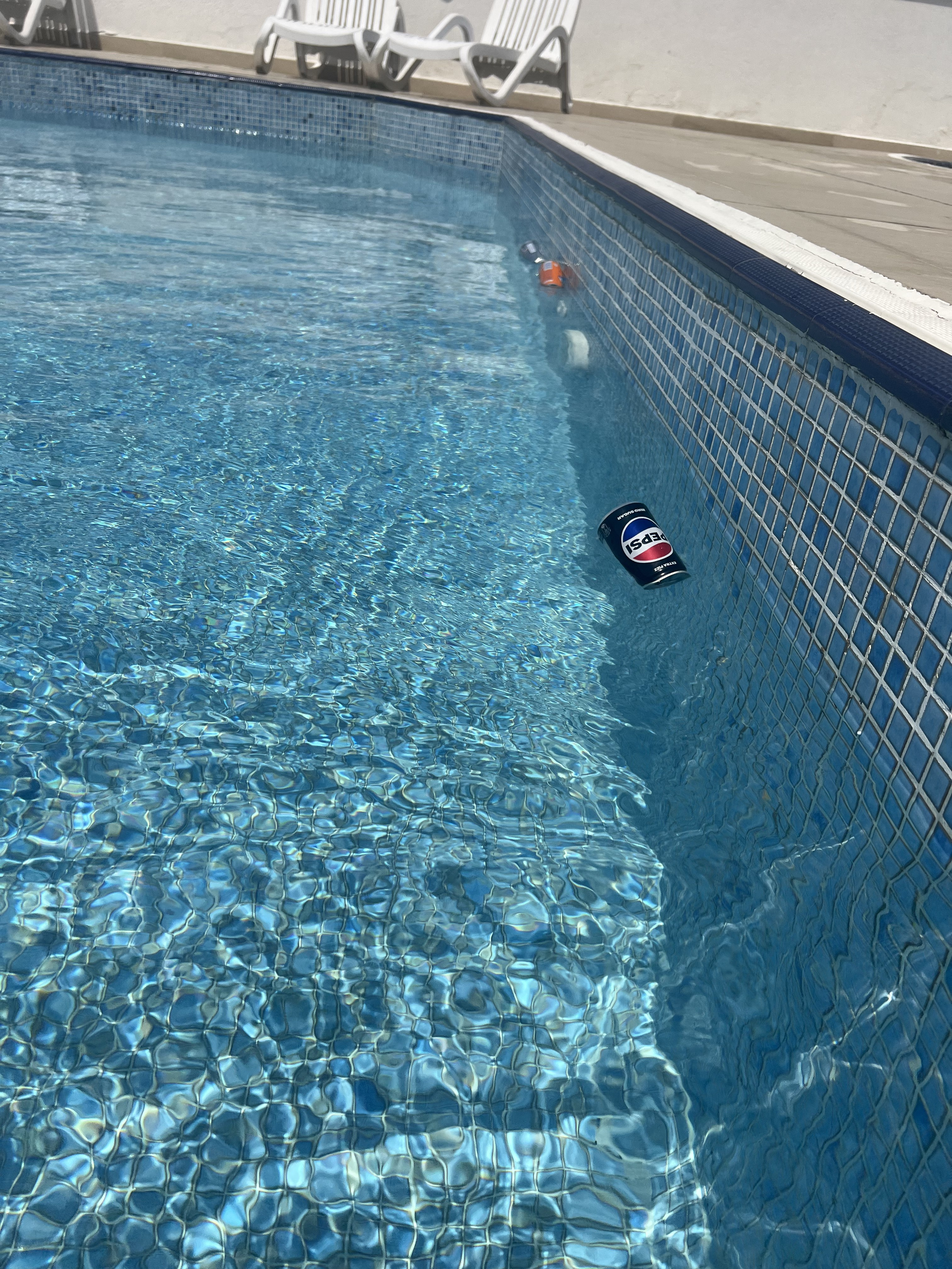debris: (590, 478, 692, 613), (536, 249, 564, 296), (519, 231, 545, 274)
